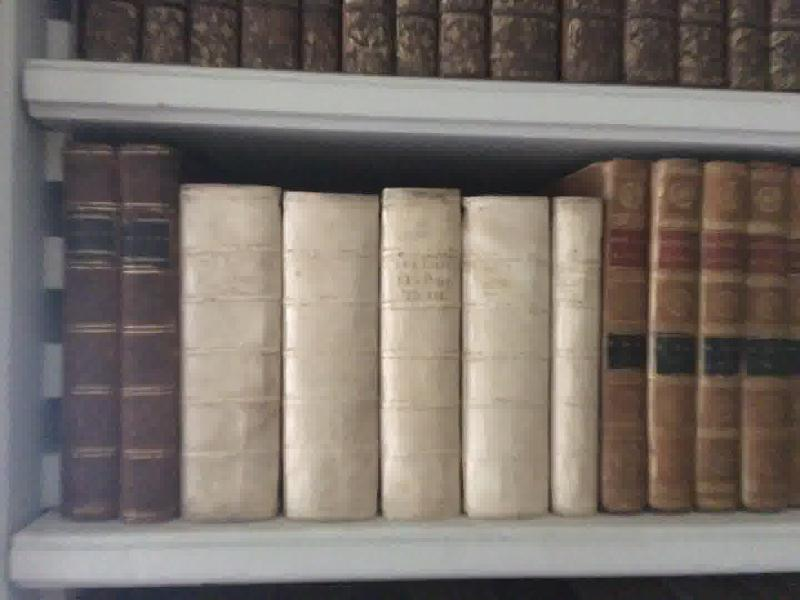Kk4-1_2: (56, 136, 192, 535)
Kk4-3_7: (172, 172, 608, 542)
Kk4-8_13: (602, 144, 800, 525)
